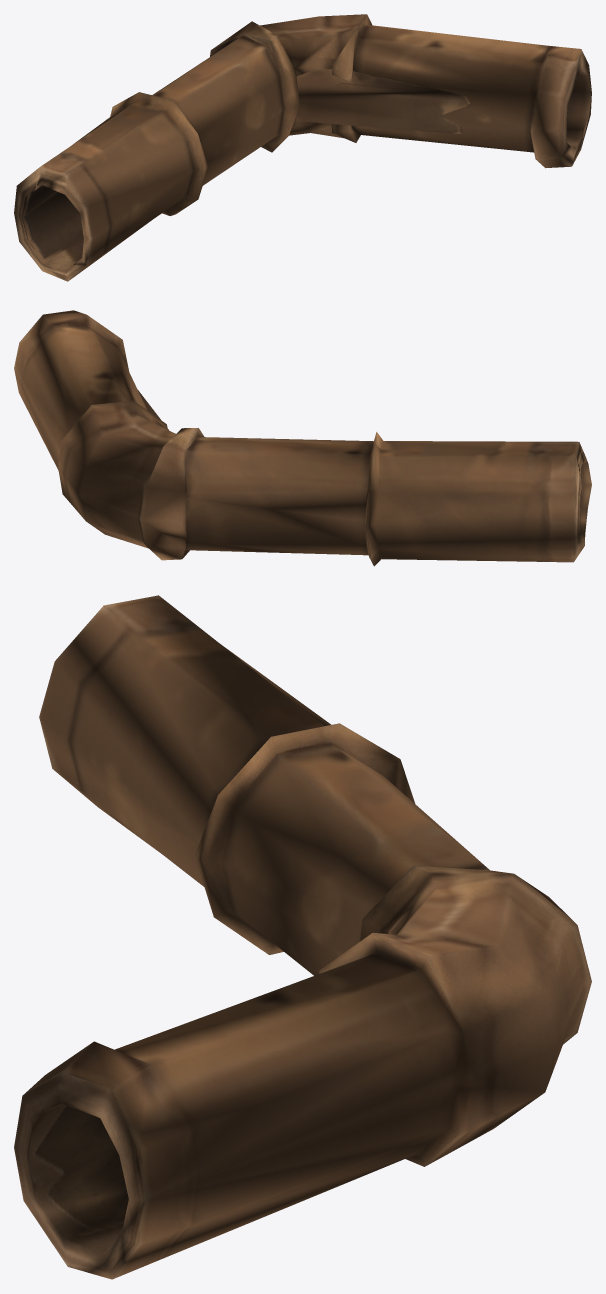
The model's file is Meshy_AI_Bent_Rusty_Pipe_0831081550_texture.fbx.
3 renders of one model, top to bottom at view 1: azimuth 30°, elevation 25°; view 2: azimuth 150°, elevation 25°; view 3: azimuth 270°, elevation 25°, orthographic. The views are drawn at different scales.
Parts seen in each view (by area): view 1: mesh_node; view 2: mesh_node; view 3: mesh_node.
Part boxes in pixels (x1,y1,x2,y2): mesh_node: (14, 14, 591, 281); mesh_node: (14, 310, 591, 566); mesh_node: (14, 595, 591, 1279).
Size of the model in its own units: 100 by 19.53 by 47.17.
1 material, 1 textured.
